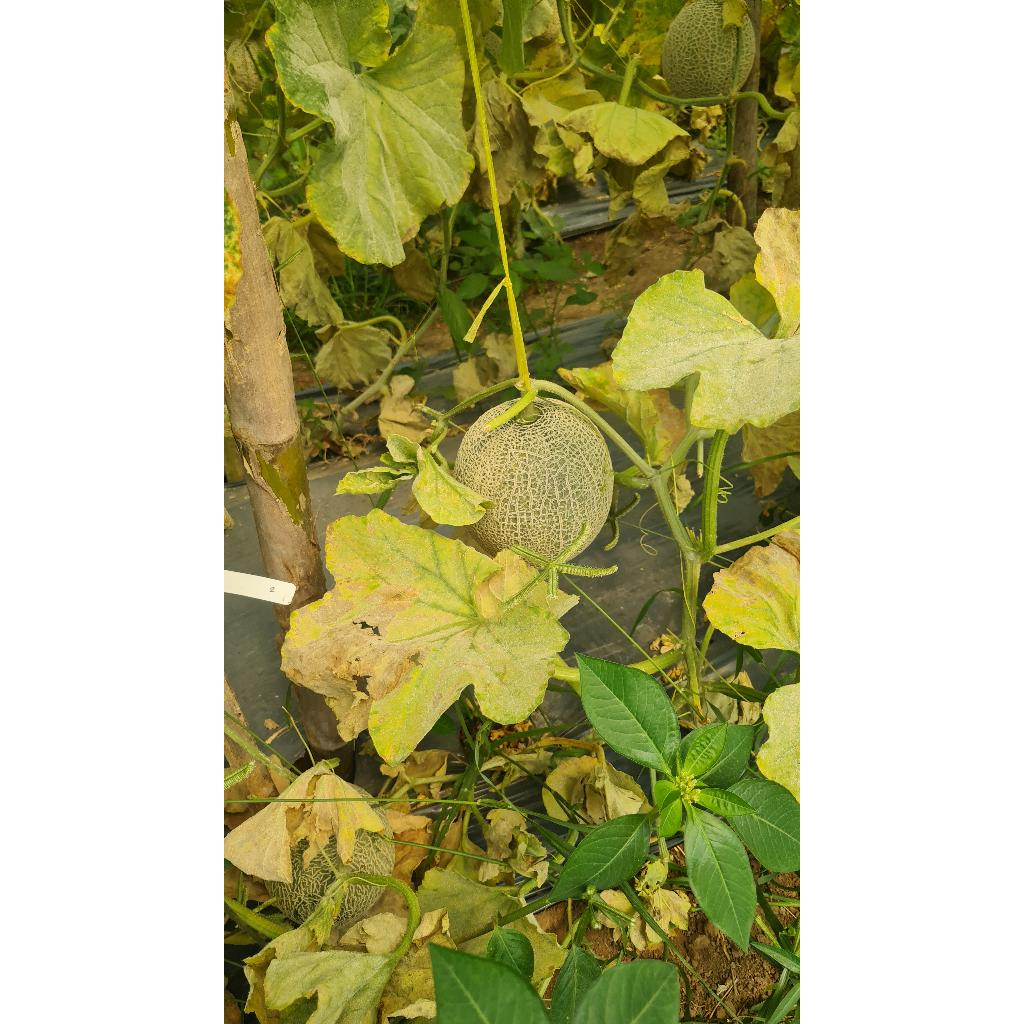melon: (454, 398, 614, 560)
